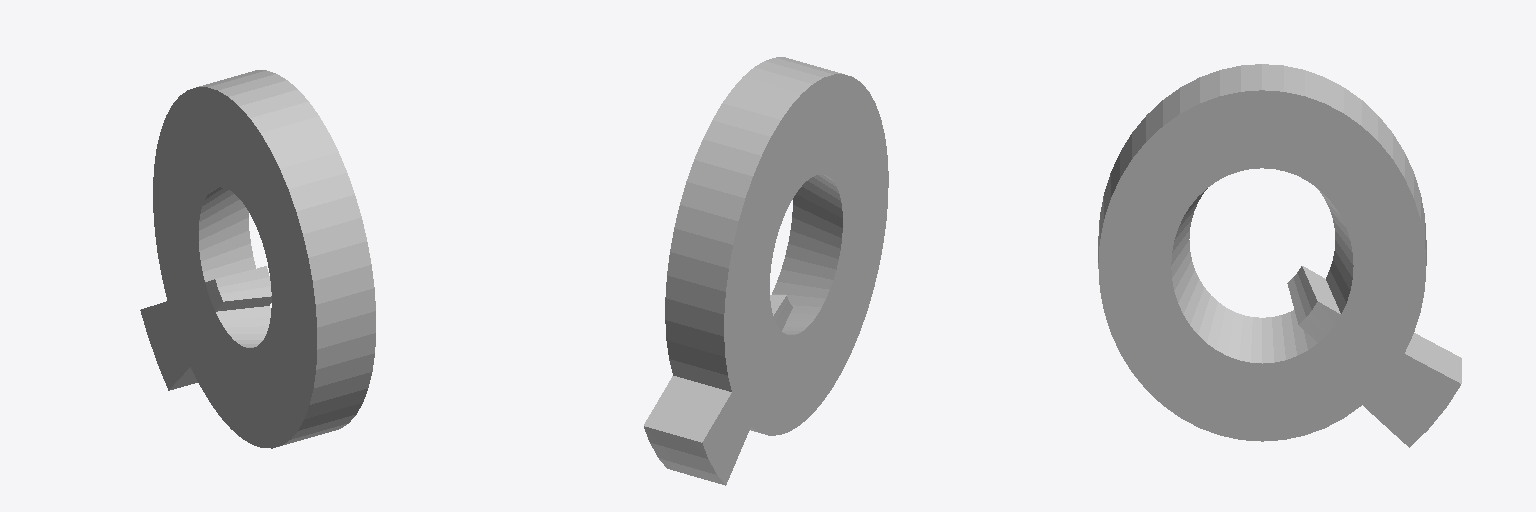
The model's file is letter13.obj.
The picture shows the model from 3 angles: view 1: azimuth 30°, elevation 25°; view 2: azimuth 150°, elevation 25°; view 3: azimuth 270°, elevation 25°; orthographic projection.
Visible parts, largest first — view 1: pCylinder1; view 2: pCylinder1; view 3: pCylinder1.
Part boxes in pixels (left/top/right/bottom): pCylinder1: left=140, top=70, right=375, bottom=448; pCylinder1: left=644, top=57, right=888, bottom=485; pCylinder1: left=1098, top=64, right=1461, bottom=447.
Bounding box in the file's own units: 0.5103 × 2.38 × 2.21.